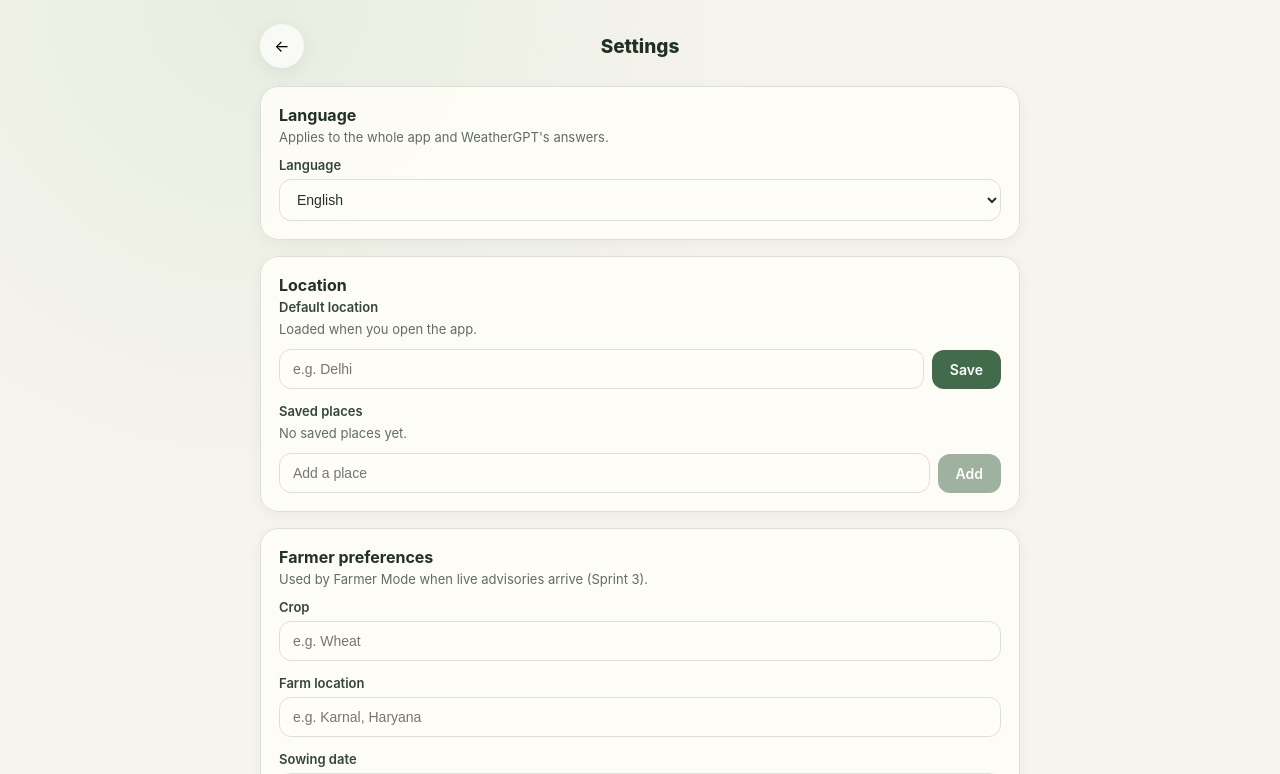
Test: adds and removes a saved place
The width and height of the screenshot is (1280, 774).
Type "Mumbai" into the field labelled "Add a place" at coordinates (604, 473), box [279,453,930,493]
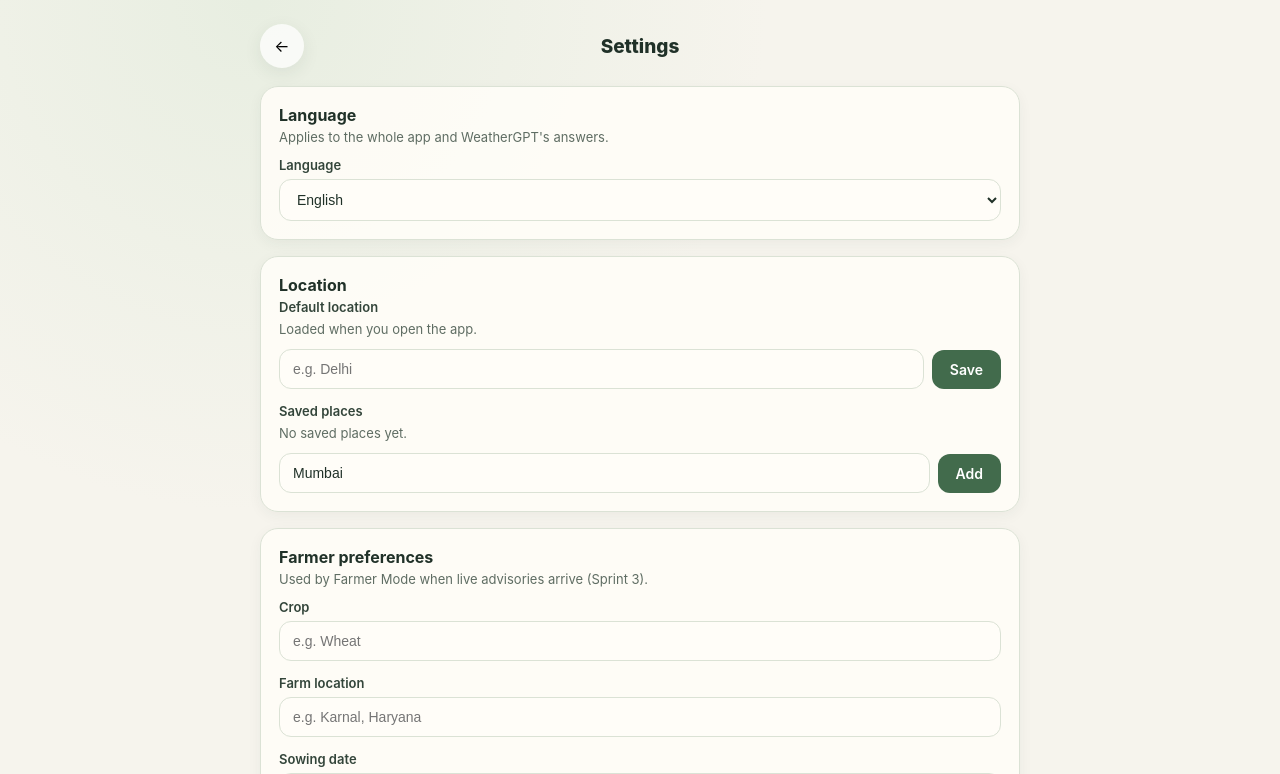
Click the button "Add" at coordinates (969, 473), box [938,454,1001,492]
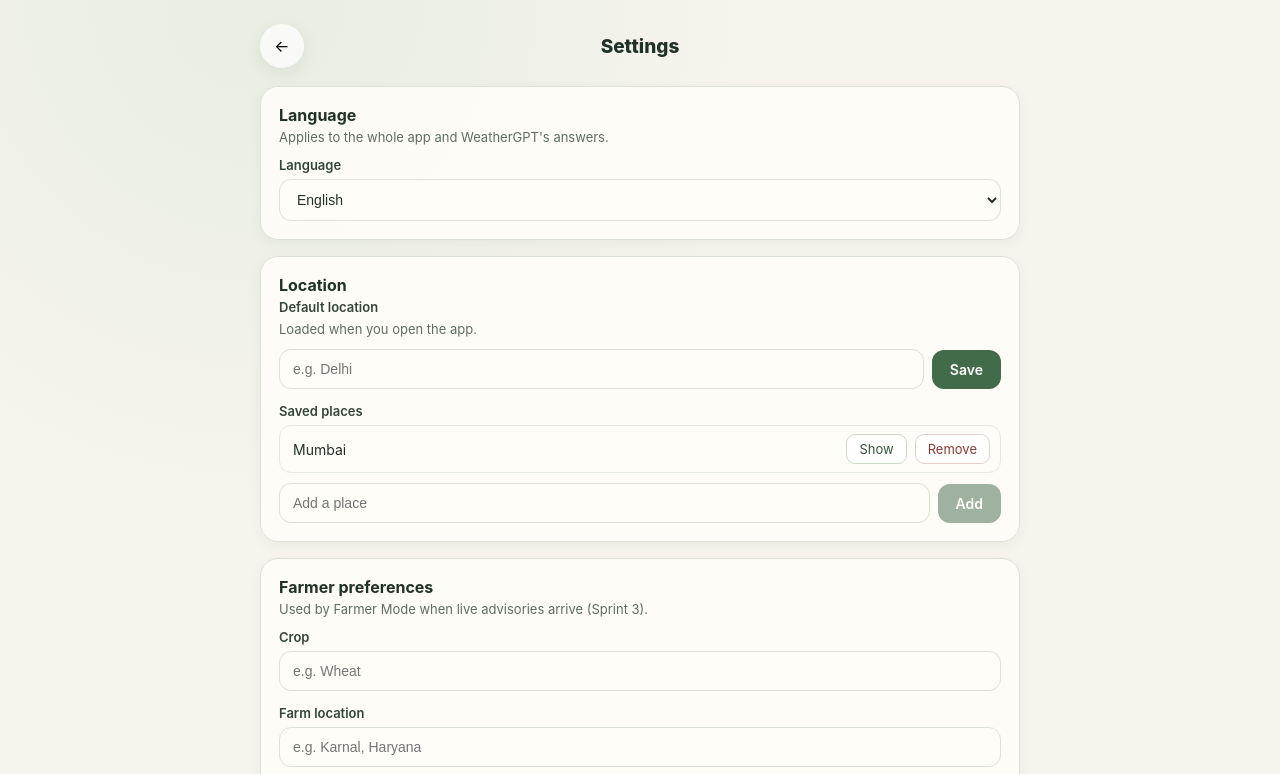
expect the text "Mumbai" is shown: met, box [293,440,346,458]
Click the button with aria-label "Remove Mumbai" at coordinates (952, 449), box [915,434,990,464]
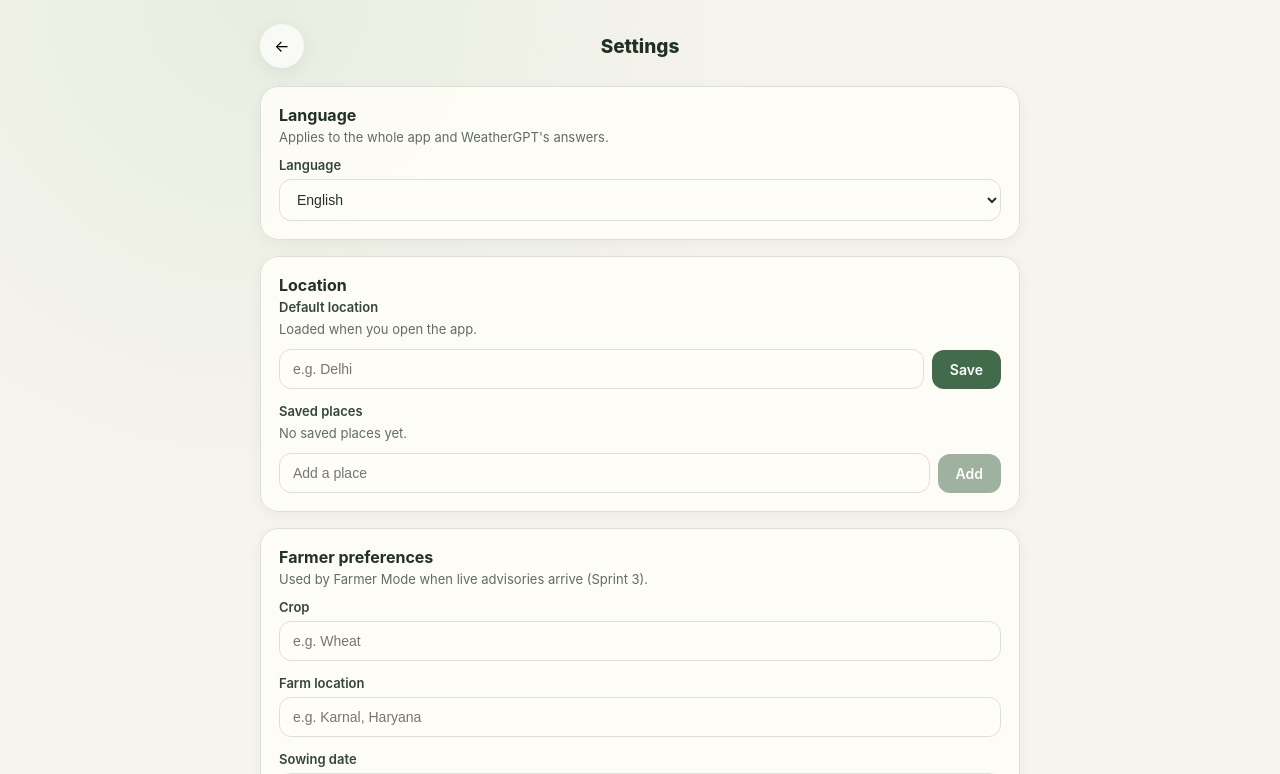
expect the text "Mumbai" is gone: met
